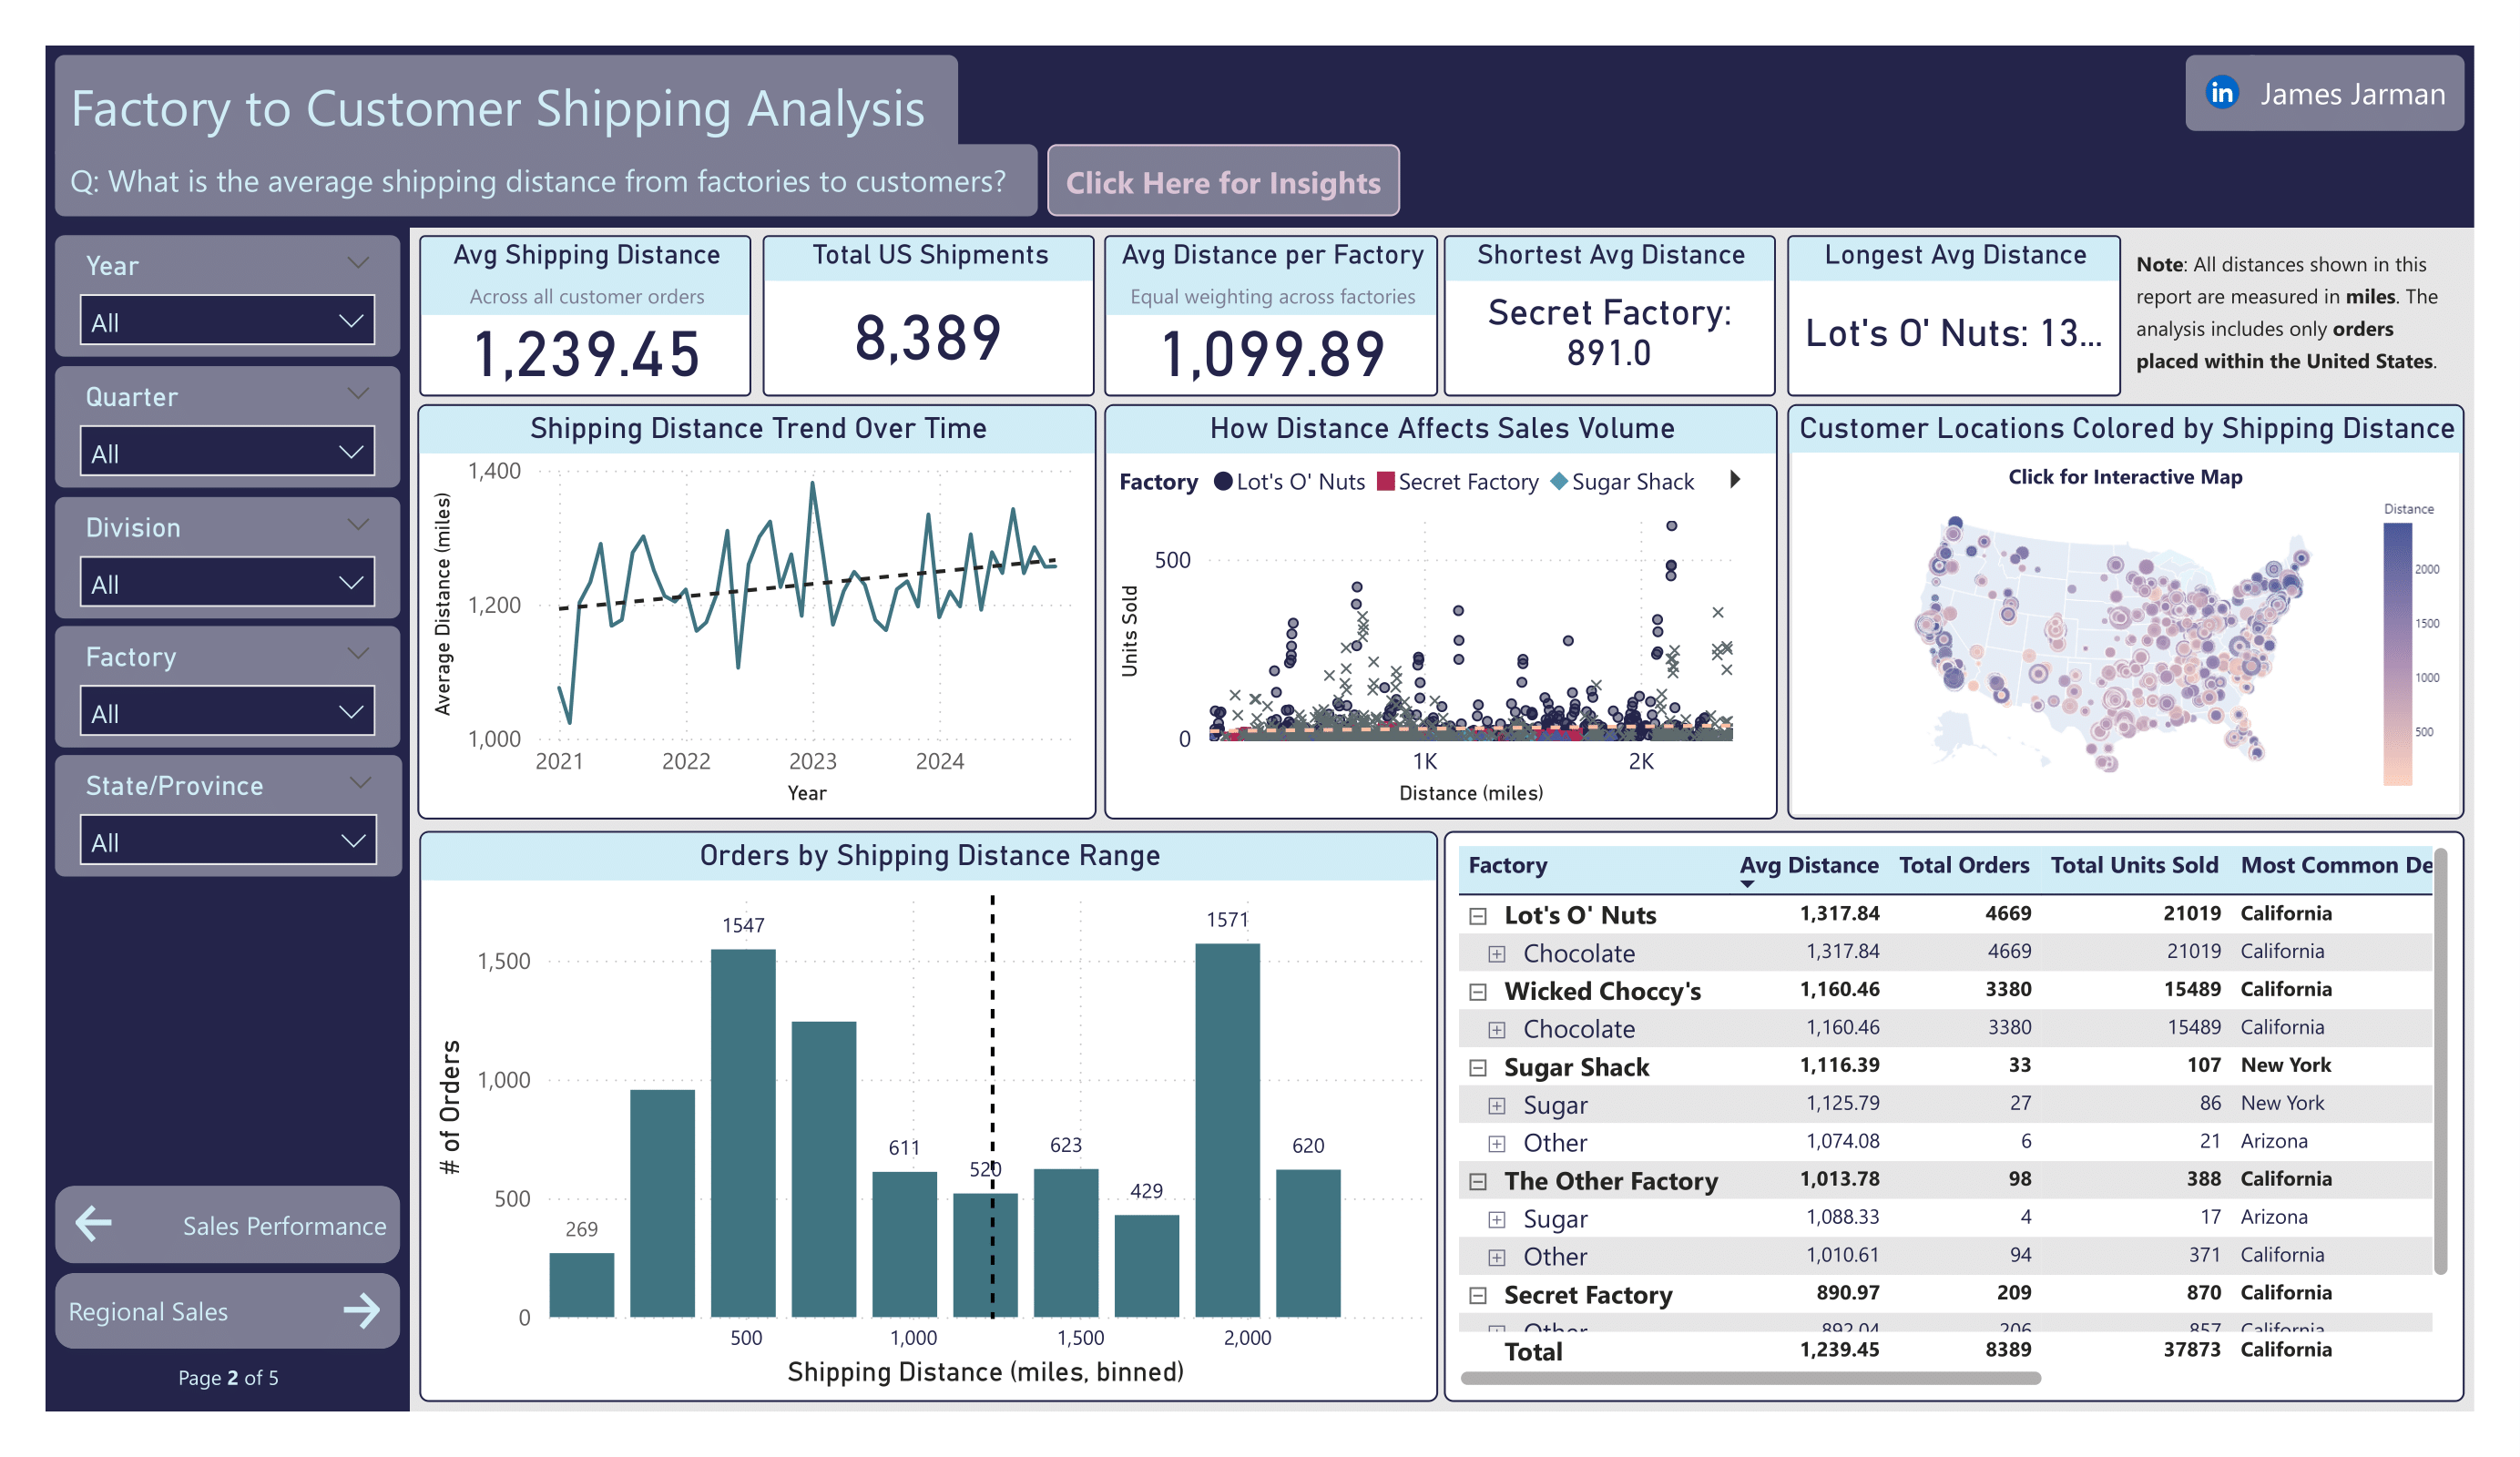

This screenshot's page, from the dashboard's own definition file:
{"tool":"powerbi","page":{"name":"2. Factory to Customer Shipping Analysis","canvas":[1280,720],"ordinal":2},"visuals":[{"type":"scatterChart","title":"Units Sold vs. Shipping Distance","fields":{"X":["shipping_analysis.Distance"],"Series":["shipping_analysis.Factory"],"Y":["Sum(shipping_analysis.Units Sold)"]},"box":[557.9,188.9,354.8,219.1],"z":0},{"type":"lineChart","title":"Avg Shipping Distance Over Time","fields":{"Category":["shipping_analysis.Order_Date.Variation.Date Hierarchy.Year","shipping_analysis.Order_Date.Variation.Date Hierarchy.Month"],"Y":["Avg(shipping_analysis.Distance_Miles)"]},"box":[196,188.9,357.5,219.1],"z":1000},{"type":"card","title":"Longest Avg Distance","fields":{"Values":["shipping_analysis.Longest Avg Distance Factory"]},"box":[918.5,100.2,175.2,85.1],"z":2000},{"type":"card","title":"Shortest Avg Distance","fields":{"Values":["shipping_analysis.FactoryWithShortestAvgDistance"]},"box":[736.8,100.2,175,85.1],"z":3000},{"type":"card","title":"Avg Distance per Factory","fields":{"Values":["shipping_analysis.Avg Shipping Distance"]},"box":[558.3,100.2,175.6,85.1],"z":4000},{"type":"card","title":"Total US Shipments","fields":{"Values":["CountNonNull(shipping_analysis.Order_ID)"]},"box":[378.2,100.2,175.2,85.1],"z":5000},{"type":"card","title":"Avg Shipping Distance","fields":{"Values":["Avg(shipping_analysis.Distance_Miles)"]},"box":[197,100,175.5,84.9],"z":6000},{"type":"shape","title":"Left-side Shape","box":[0,95.6,192,624.4],"z":7000},{"type":"actionButton","title":"Next Page Button","box":[5,675,181.9,40],"z":8000},{"type":"actionButton","title":"Previous Page Button","box":[5,630,181.9,40],"z":9000},{"type":"slicer","title":"Quarter Slicer","fields":{"Values":["sales_analysis.Division"]},"box":[5.2,238,182,63.6],"z":10000},{"type":"slicer","title":"Year Slicer","fields":{"Values":["sales_analysis.Order Date.Variation.Date Hierarchy.Quarter"]},"box":[5.2,169,182,64],"z":11000},{"type":"slicer","title":"Division Slicer","fields":{"Values":["sales_analysis.Order Date.Variation.Date Hierarchy.Year"]},"box":[5,100,182,64],"z":12000},{"type":"shape","title":"Header Shape","box":[0,0,1280,95.6],"z":13000},{"type":"actionButton","title":"LinkedIn Button","box":[1127.6,5,40,40],"z":14000},{"type":"textbox","title":"Question","box":[5,47.9,600,41.2],"z":15000},{"type":"textbox","title":"Page Title","box":[5.3,5.3,476,52.3],"z":16000},{"type":"actionButton","title":"JJ Button","box":[1157.9,5,116.9,40],"z":17000},{"type":"slicer","title":"Quarter Slicer","fields":{"Values":["shipping_analysis.Factory"]},"box":[5.3,306,182.1,63.6],"z":18000},{"type":"textbox","box":[1096.6,100,178.2,84.9],"z":19000},{"type":"actionButton","title":"Link to Interactive Map","box":[918.1,188.9,356.6,219.1],"z":20000},{"type":"pivotTable","fields":{"Values":["Avg(shipping_analysis.Distance)","CountNonNull(shipping_analysis.Order ID)","Sum(shipping_analysis.Units Sold)","shipping_analysis.MostCommonState"],"Rows":["shipping_analysis.Factory","candy_products.Division","candy_products.Product Name"]},"box":[737.1,414.2,537.5,300.7],"z":21000},{"type":"slicer","title":"Quarter Slicer","fields":{"Values":["shipping_analysis.State_Province"]},"box":[5.3,374,182.7,63.9],"z":22000},{"type":"columnChart","title":"Order Frequency by Shipping Distance","fields":{"Category":["shipping_analysis.Distance (bins)"],"Y":["CountNonNull(shipping_analysis.Order ID)"]},"box":[196.9,414.2,536.7,300.7],"z":23000}]}

Visuals, with their boxes on the page's 1280x720 design canvas (x1, y1, x2, y2). These are canvas units, not pixel positions in the 2520x1457 screenshot, which may show the page scaled, cropped or inside an application window:
"Units Sold vs. Shipping Distance" scatterChart: bbox=(558, 189, 913, 408)
"Avg Shipping Distance Over Time" lineChart: bbox=(196, 189, 554, 408)
"Longest Avg Distance" card: bbox=(918, 100, 1094, 185)
"Shortest Avg Distance" card: bbox=(737, 100, 912, 185)
"Avg Distance per Factory" card: bbox=(558, 100, 734, 185)
"Total US Shipments" card: bbox=(378, 100, 553, 185)
"Avg Shipping Distance" card: bbox=(197, 100, 372, 185)
"Left-side Shape" shape: bbox=(0, 96, 192, 720)
"Next Page Button" actionButton: bbox=(5, 675, 187, 715)
"Previous Page Button" actionButton: bbox=(5, 630, 187, 670)
"Quarter Slicer" slicer: bbox=(5, 238, 187, 302)
"Year Slicer" slicer: bbox=(5, 169, 187, 233)
"Division Slicer" slicer: bbox=(5, 100, 187, 164)
"Header Shape" shape: bbox=(0, 0, 1280, 96)
"LinkedIn Button" actionButton: bbox=(1128, 5, 1168, 45)
"Question" textbox: bbox=(5, 48, 605, 89)
"Page Title" textbox: bbox=(5, 5, 481, 58)
"JJ Button" actionButton: bbox=(1158, 5, 1275, 45)
"Quarter Slicer" slicer: bbox=(5, 306, 187, 370)
textbox: bbox=(1097, 100, 1275, 185)
"Link to Interactive Map" actionButton: bbox=(918, 189, 1275, 408)
pivotTable - Avg(shipping_analysis.Distance) x CountNonNull(shipping_analysis.Order ID): bbox=(737, 414, 1275, 715)
"Quarter Slicer" slicer: bbox=(5, 374, 188, 438)
"Order Frequency by Shipping Distance" columnChart: bbox=(197, 414, 734, 715)
